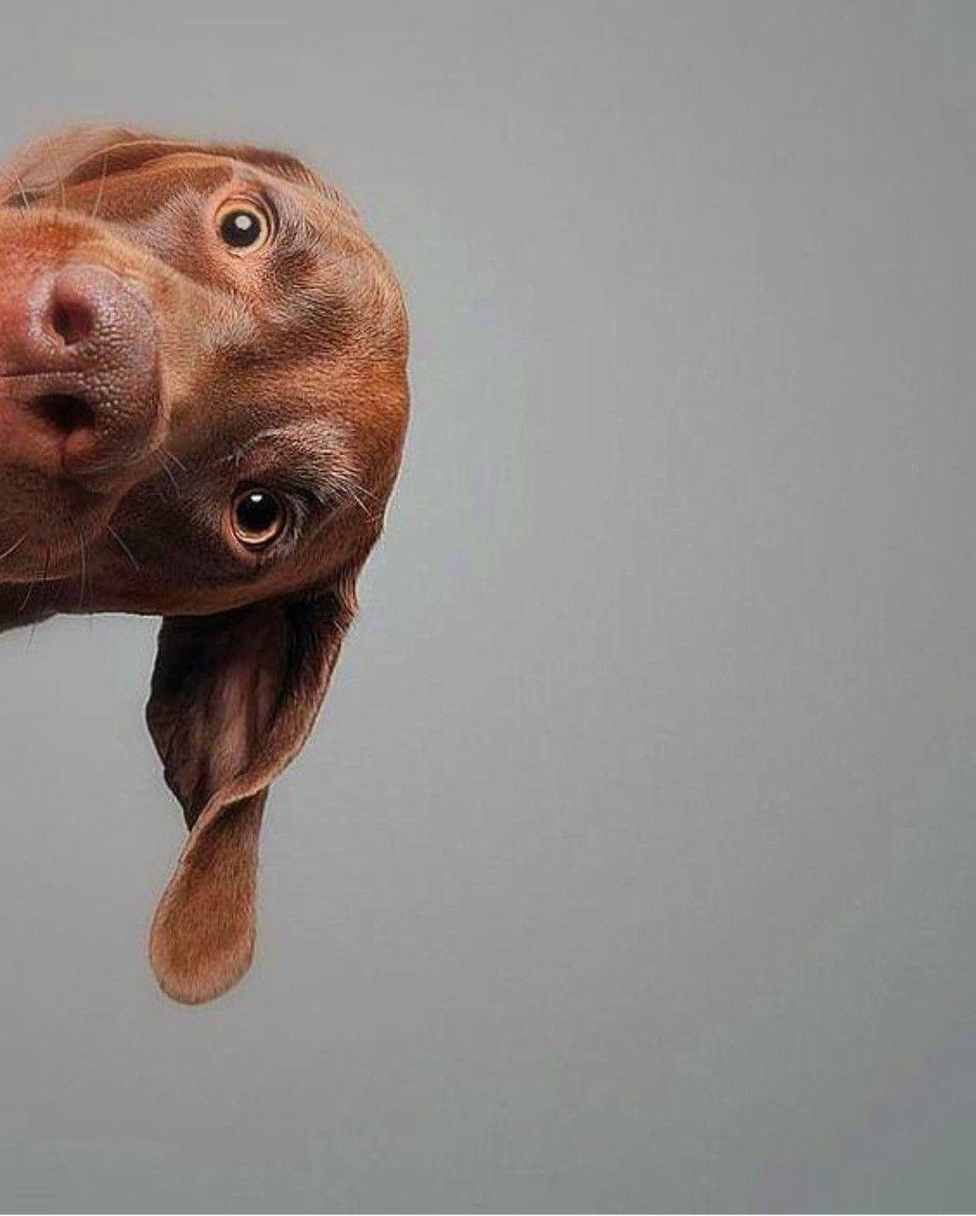adult_dog: (0, 121, 418, 1007)
